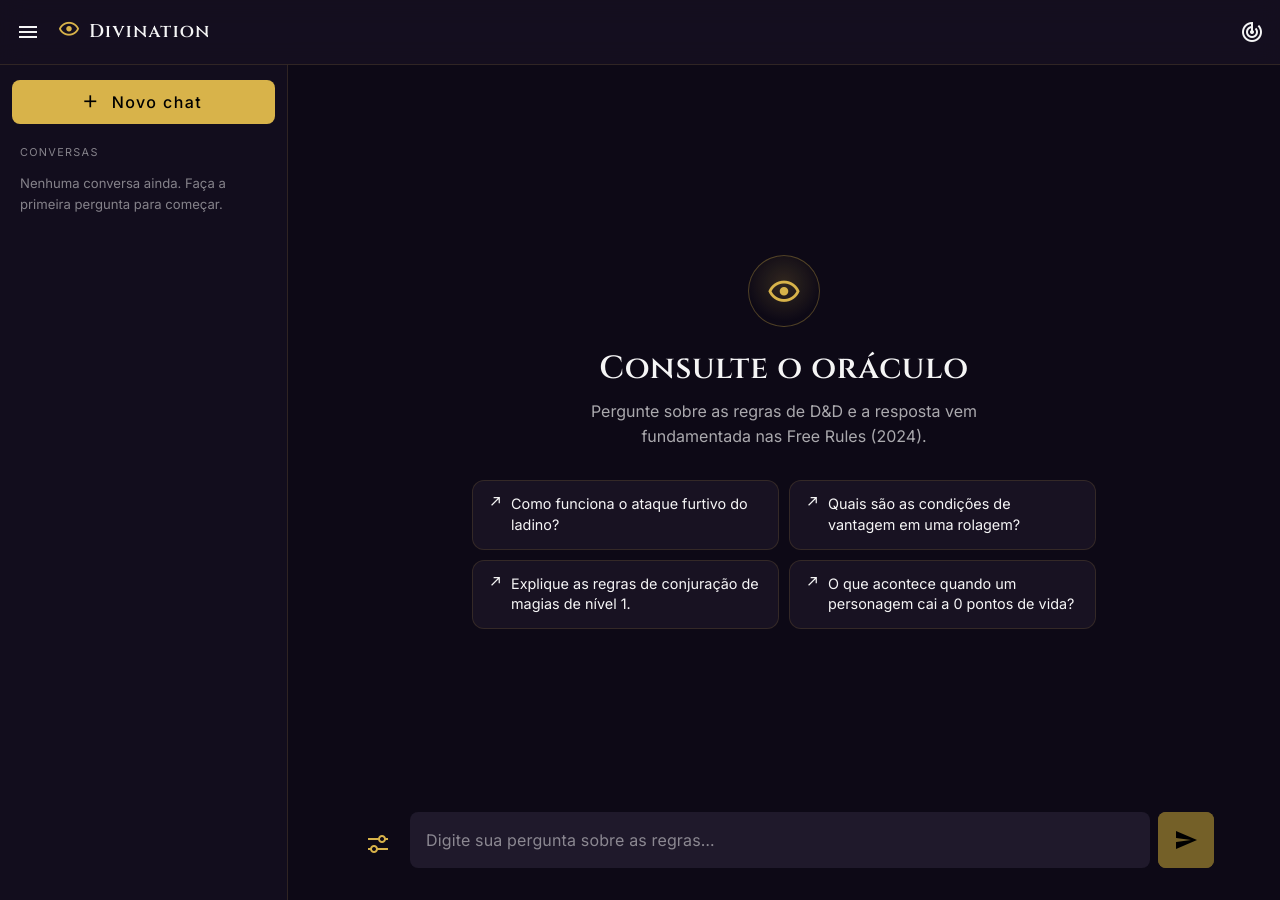
ChatShell › keeps the send button disabled until something is typed
Expected: the button with class "composer__send" is disabled, [1158,812,1214,868]
Step 1. Type "pergunta" into the text box with placeholder "Digite sua pergunta sobre as regras…" → (780, 840), box [410,812,1150,868]
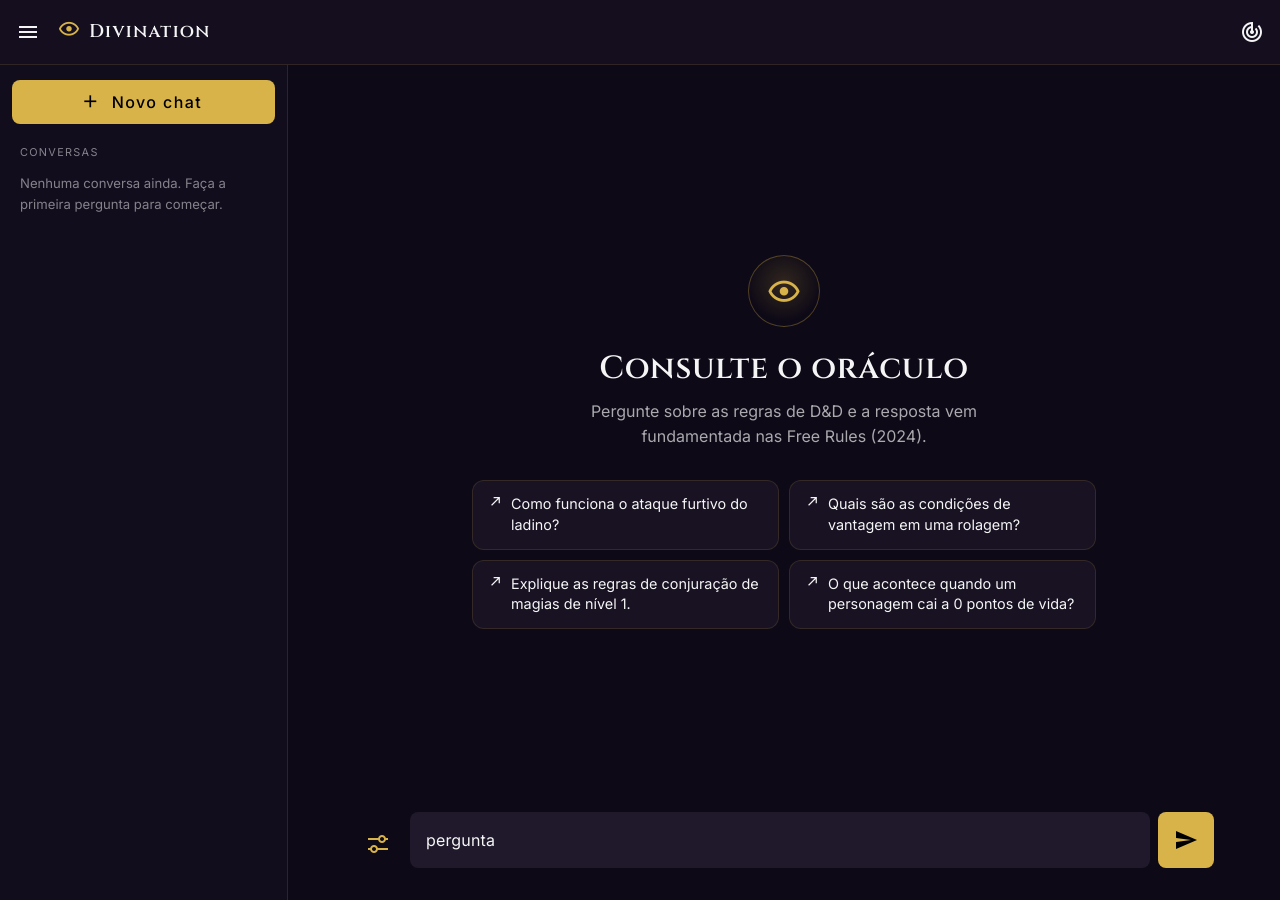
Now the button with class "composer__send" is enabled, box [1158,812,1214,868]
